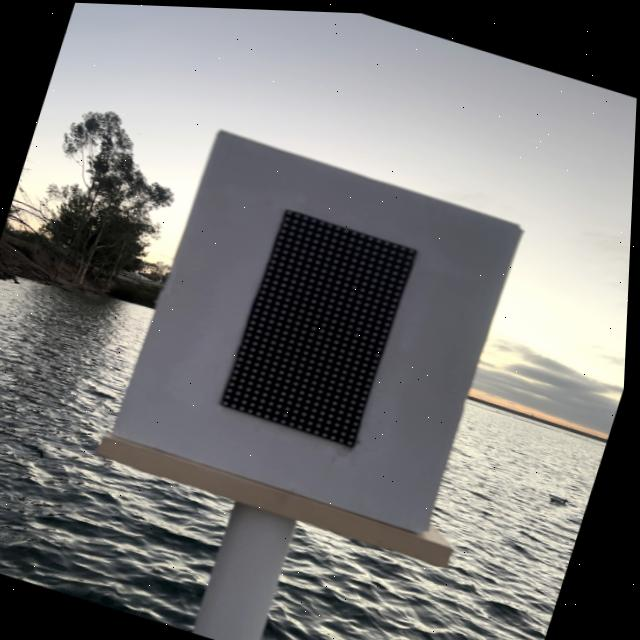led: (171, 163, 411, 450)
